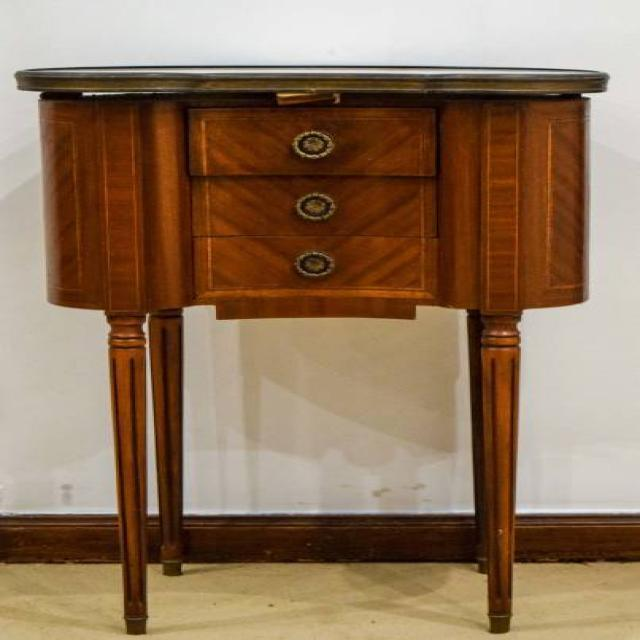table: (12, 64, 608, 634)
